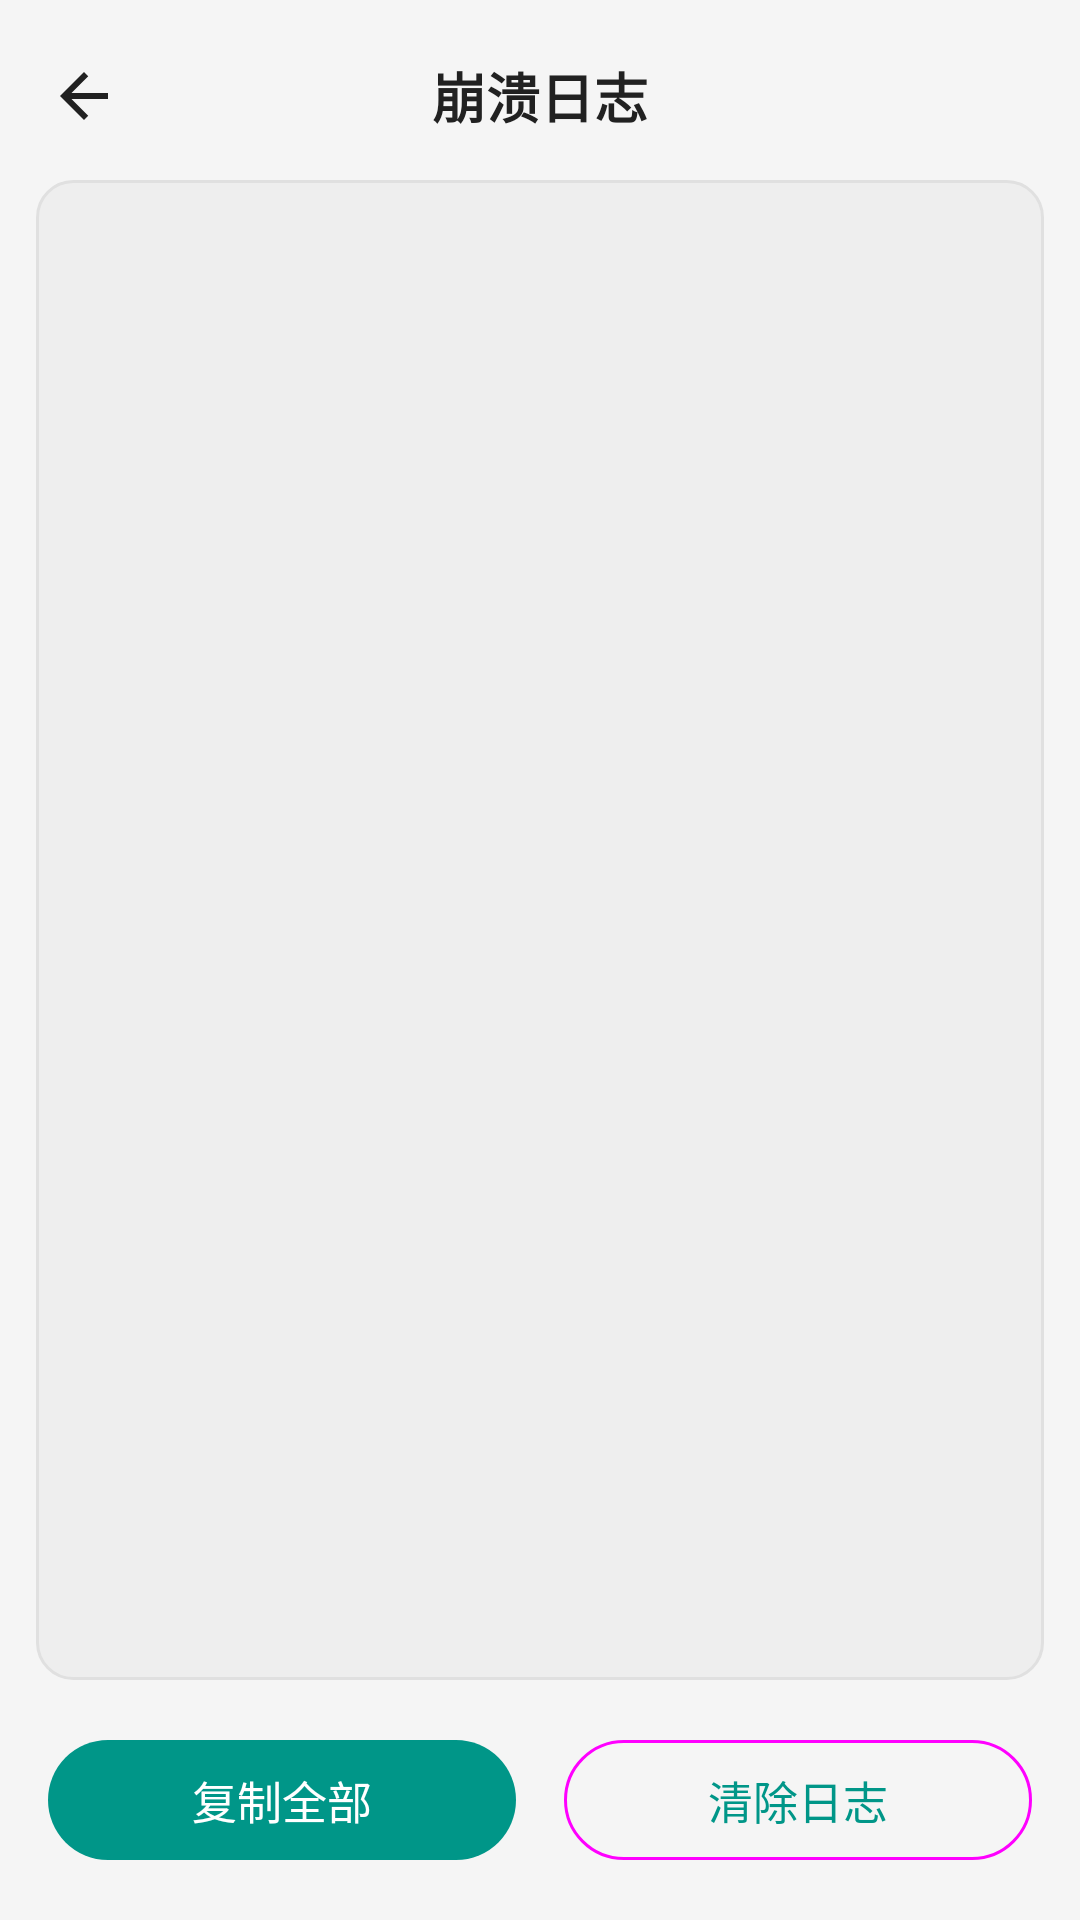

Where to tap for icons on this 1080×1920 app screen, as (x=x, y=y):
返回: (x=84, y=96)
